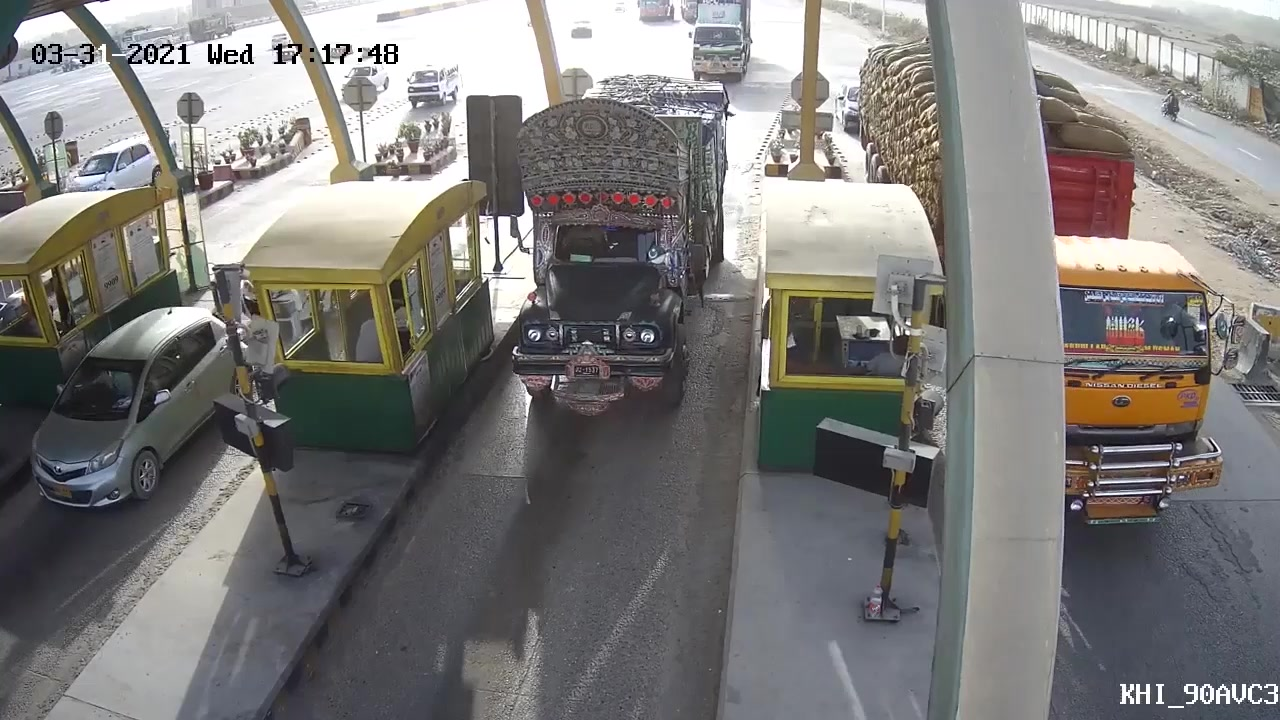F4: (491, 99, 725, 414)
